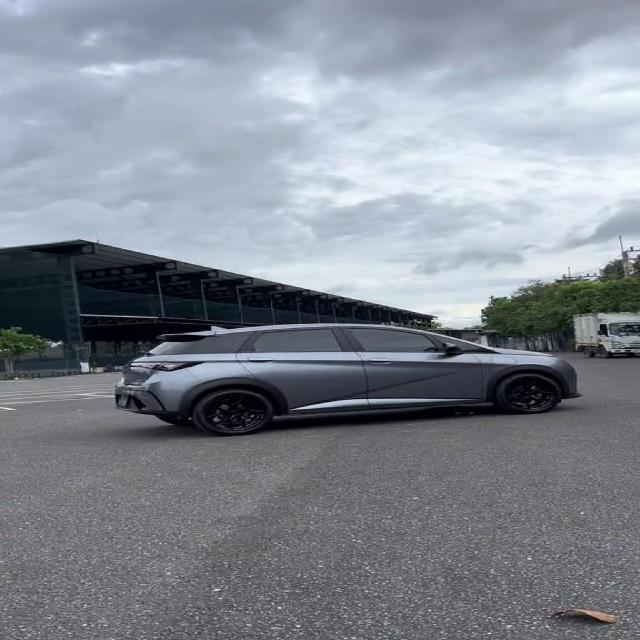Hatchback: (114, 324, 580, 436)
